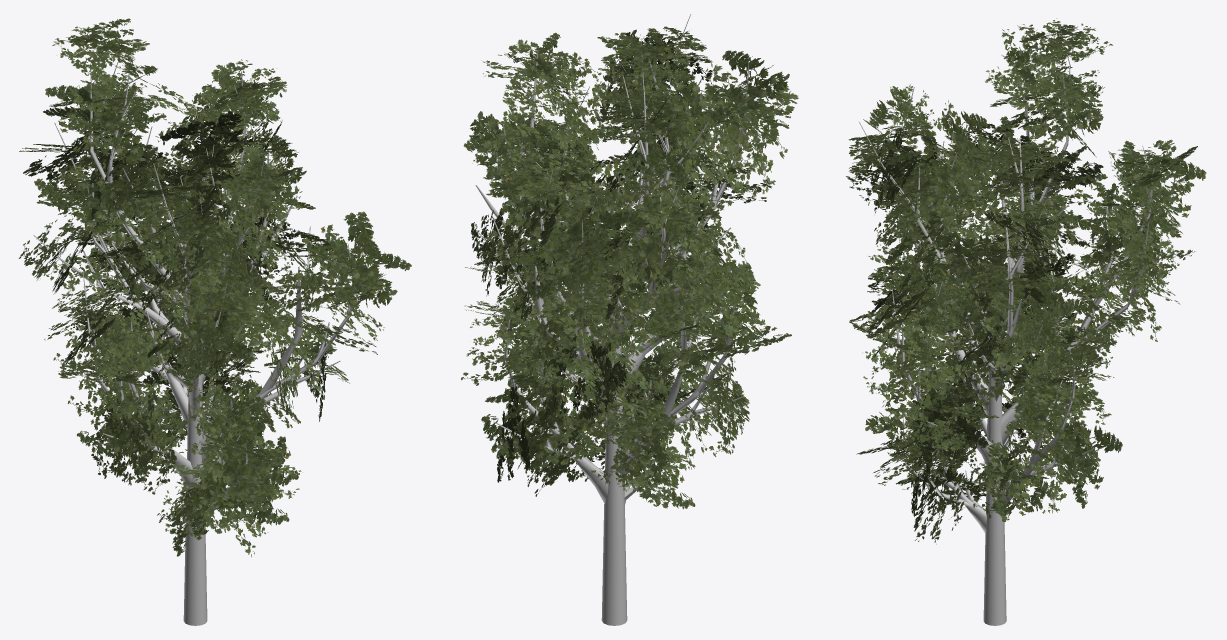
Rendered from Norway_Maple_Model_0.obj.
3 renders of one model, left to right at view 1: azimuth 30°, elevation 25°; view 2: azimuth 150°, elevation 25°; view 3: azimuth 270°, elevation 25°, orthographic. The views are drawn at different scales.
Visible parts, largest first — view 1: Foliage__leafcard, Bark; view 2: Foliage__leafcard, Bark; view 3: Foliage__leafcard, Bark.
Part boxes in pixels (box(x1,y1,x2,y2)): Foliage__leafcard: box(18, 18, 411, 557); Bark: box(33, 27, 356, 625); Foliage__leafcard: box(461, 26, 798, 509); Bark: box(475, 14, 748, 625); Foliage__leafcard: box(846, 18, 1206, 544); Bark: box(859, 26, 1154, 625).
Size of the model in its own units: 14.25 by 25 by 15.19.
